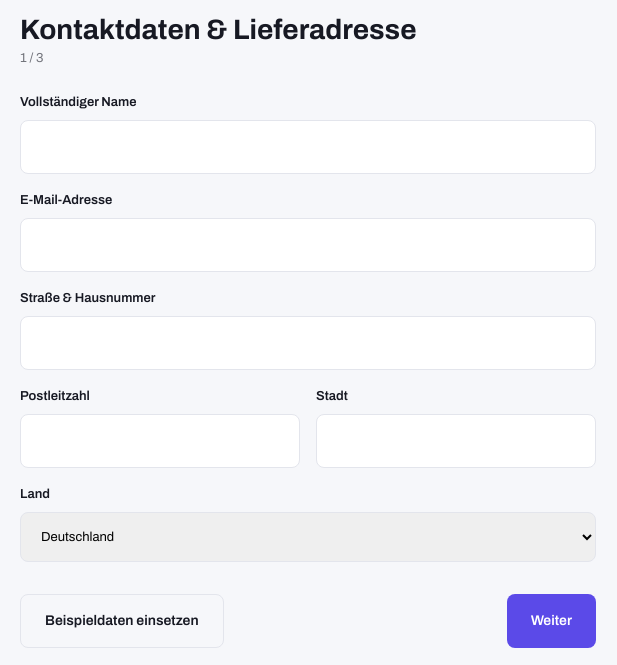
Test: Checkout › going back from step 2 to step 1 preserves entered values
Type "Sample Name" into the field named "fullName" at (308, 147), box x1=20 y1=120 x2=596 y2=174
Type "sample@example.com" into the field named "email" at (308, 245), box x1=20 y1=218 x2=596 y2=272
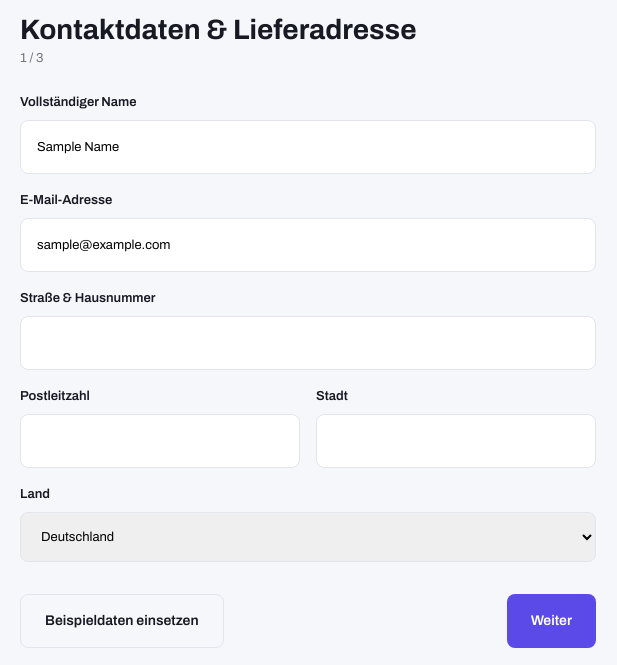
Type "Sample Street 1" into the field named "street" at (308, 343), box x1=20 y1=316 x2=596 y2=370
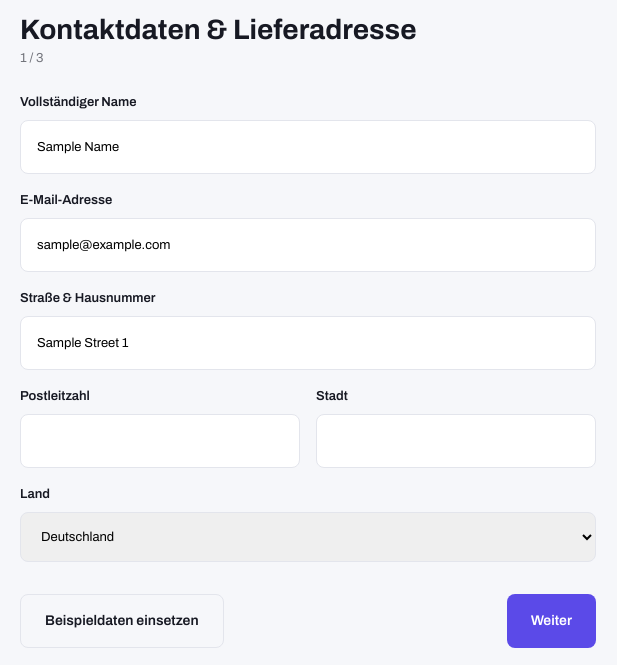
Type "12345" into the field named "postalCode" at (160, 441), box x1=20 y1=414 x2=300 y2=468
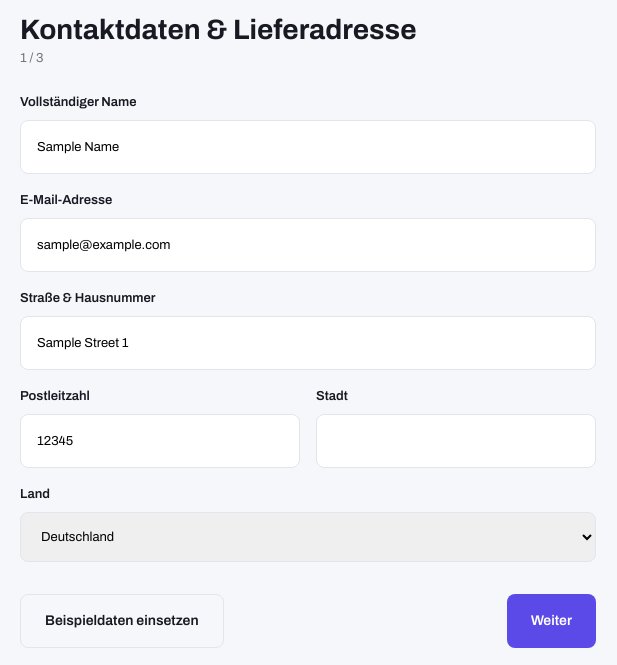
Type "Sample City" into the field named "city" at (456, 441), box x1=316 y1=414 x2=596 y2=468
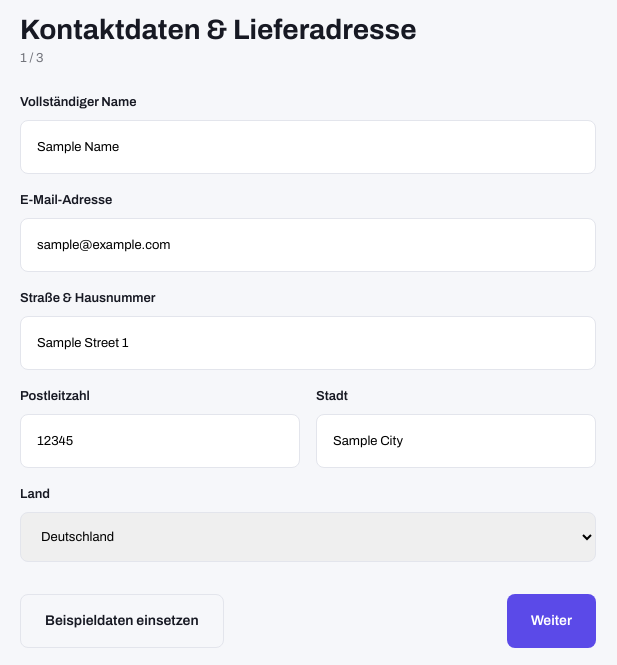
Click the button "Weiter" at (551, 621), box x1=507 y1=594 x2=596 y2=648
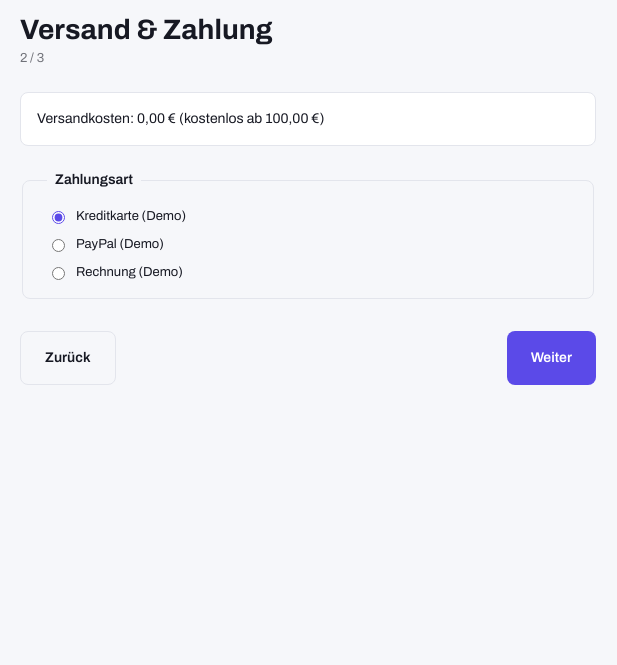
Click the button with class "ghost" at (68, 358), box x1=20 y1=331 x2=116 y2=385
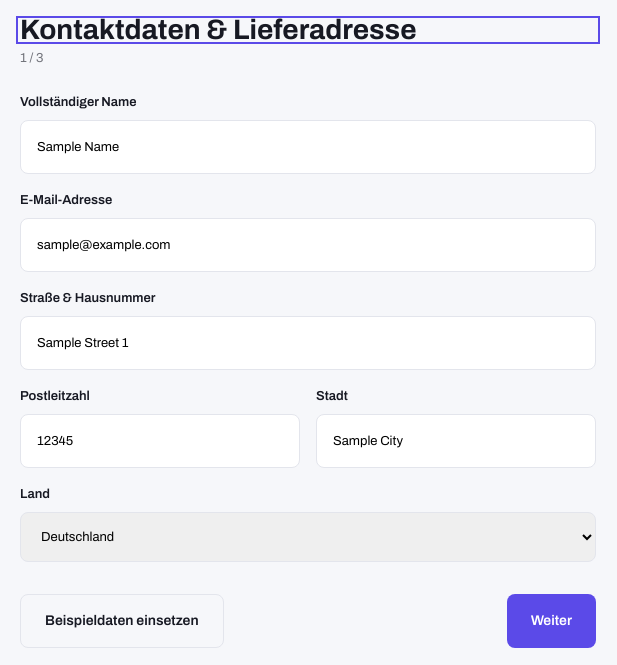
Check: the field named "fullName" holds "Sample Name", box x1=20 y1=120 x2=596 y2=174
